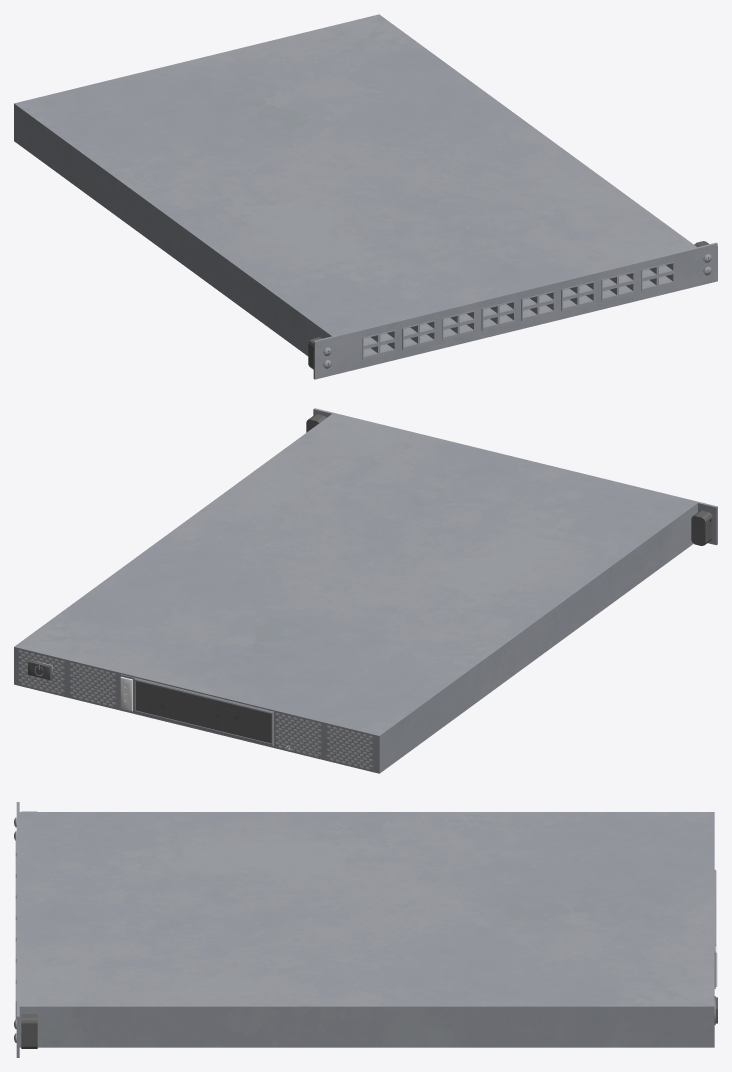
Rendered from Switch32xQSFP.1u.glb.
3 views of the same model, one above another, from view 1: azimuth 30°, elevation 25°; view 2: azimuth 150°, elevation 25°; view 3: azimuth 270°, elevation 25° (orthographic). The views are drawn at different scales.
Visible parts, largest first — view 1: Switch32xQSFP; view 2: Switch32xQSFP; view 3: Switch32xQSFP.
Boxes of the visible parts, <box> form: Switch32xQSFP: <box>14,14,717,379</box>; Switch32xQSFP: <box>14,408,717,773</box>; Switch32xQSFP: <box>14,802,716,1057</box>.
Size of the model in its own units: 0.4977 by 0.0445 by 0.6895.
Materials: 5 (3 with a texture image).
